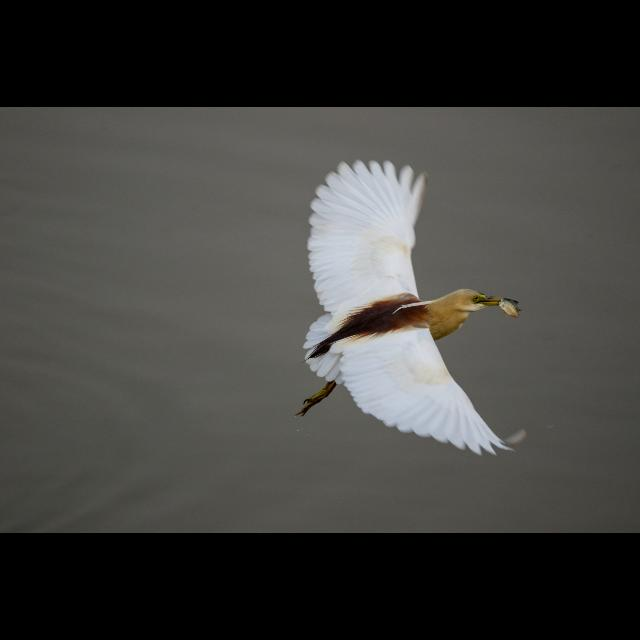heron: (292, 146, 532, 468)
